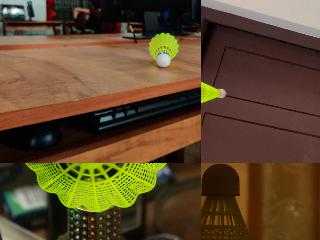shuttlecock: (15, 163, 171, 211), (201, 163, 266, 239), (148, 31, 178, 66), (201, 81, 226, 104)
